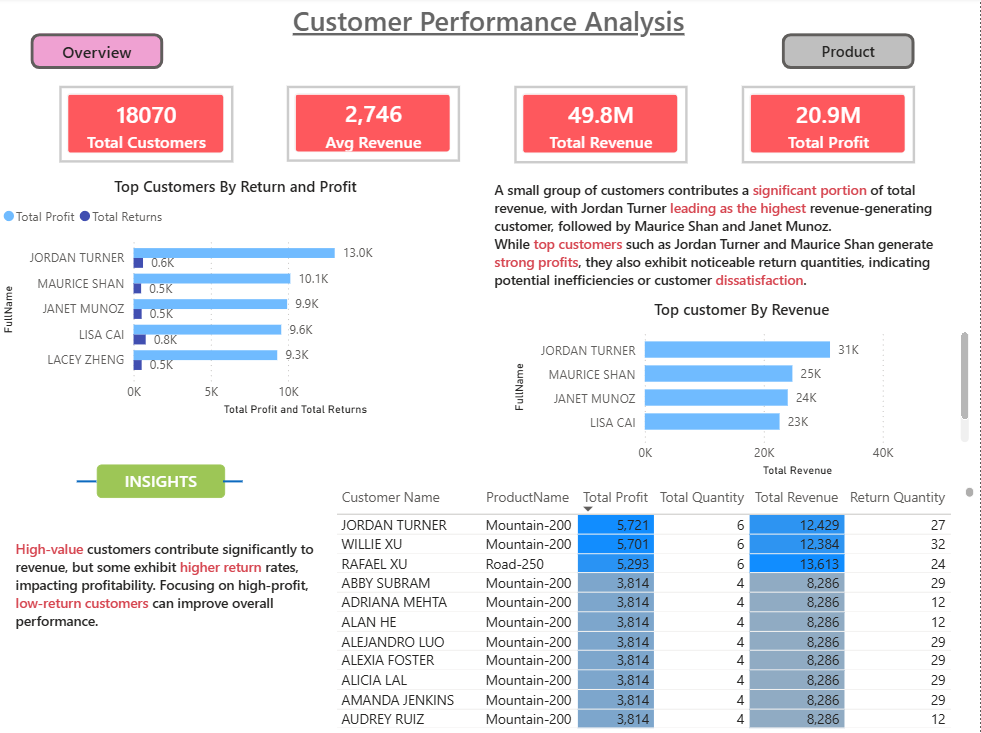

The dashboard page shown, as its layout file describes it:
{"tool":"powerbi","page":{"name":" customer Analysis","canvas":[960,720],"ordinal":2},"visuals":[{"type":"textbox","box":[271.5,0,417,52.6],"z":0},{"type":"cardVisual","fields":{"Data":["gold extdim_customer.Total Customers"]},"box":[60.4,87.3,170,75],"z":1000},{"type":"cardVisual","fields":{"Data":["gold extfact_sales.Total Profit"]},"box":[728.1,87.3,170,75.8],"z":2000},{"type":"cardVisual","fields":{"Data":["gold extfact_sales.Total Revenue"]},"box":[505.5,87.3,170,75.8],"z":3000},{"type":"cardVisual","fields":{"Data":["gold extdim_customer.Avg Revenue per Customer"]},"box":[283,87.3,170,74.6],"z":4000},{"type":"barChart","title":" Top customer By Revenue","fields":{"Category":["gold extdim_customer.FullName"],"Y":["gold extfact_sales.Total Revenue"]},"box":[500.1,294.7,454.9,179.8],"z":4001},{"type":"clusteredBarChart","title":"Top Customers By Return and Profit","fields":{"Y":["gold extfact_sales.Total Profit","gold extfact_returns.Total Returns"],"Category":["gold extdim_customer.FullName"]},"box":[0,174.9,464.7,239.7],"z":4002},{"type":"textbox","box":[480.6,174.9,464.7,119.8],"z":4003},{"type":"tableEx","fields":{"Values":["gold extdim_customer.FullName","gold extdim_product.ProductName","gold extfact_sales.Total Profit","gold extfact_sales.Total Quantity","gold extfact_sales.Total Revenue","Sum(gold extfact_returns.ReturnQuantity)"]},"box":[325.3,474.5,634.7,245.8],"z":4004},{"type":"actionButton","title":"Overview","box":[31.8,35.5,130,35],"z":4005},{"type":"actionButton","box":[766.7,35.5,130,35],"z":4006},{"type":"textbox","box":[96.6,457.3,126,33],"z":4007},{"type":"shape","box":[77,440.2,19.6,67.3],"z":4008},{"type":"shape","box":[220.1,440.2,19.6,67.3],"z":4009},{"type":"textbox","box":[12.2,525.8,313,119.8],"z":4010}]}

Visuals, with their boxes in screenshot pixels (x1, y1, x2, y2), scaled from the page's 960x720 canvas onto the 981x733 screenshot:
textbox: locate(277, 0, 704, 54)
cardVisual - gold extdim_customer.Total Customers: locate(62, 89, 235, 165)
cardVisual - gold extfact_sales.Total Profit: locate(744, 89, 918, 166)
cardVisual - gold extfact_sales.Total Revenue: locate(517, 89, 690, 166)
cardVisual - gold extdim_customer.Avg Revenue per Customer: locate(289, 89, 463, 165)
" Top customer By Revenue" barChart: locate(511, 300, 976, 483)
"Top Customers By Return and Profit" clusteredBarChart: locate(0, 178, 475, 422)
textbox: locate(491, 178, 966, 300)
tableEx - gold extdim_customer.FullName x gold extdim_product.ProductName: locate(332, 483, 980, 732)
"Overview" actionButton: locate(32, 36, 165, 72)
actionButton: locate(783, 36, 916, 72)
textbox: locate(99, 466, 227, 499)
shape: locate(79, 448, 99, 517)
shape: locate(225, 448, 245, 517)
textbox: locate(12, 535, 332, 657)
